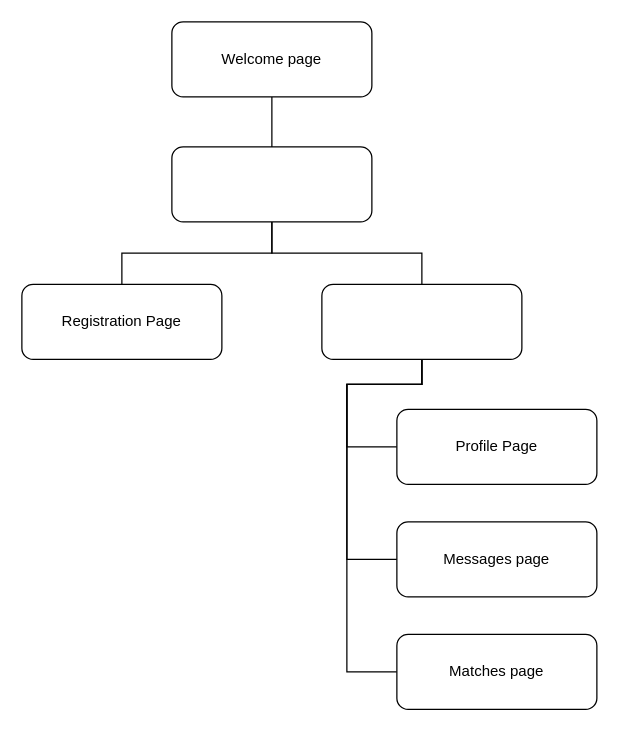
The diagram is 619 pixels wide and 731 high, and some of its shapes have lost their labels. Here are the shapes that lost their labels. From the top down, the centre of each, then its label:
At point (271, 184): "Login page".
At point (421, 321): "Explore page".
